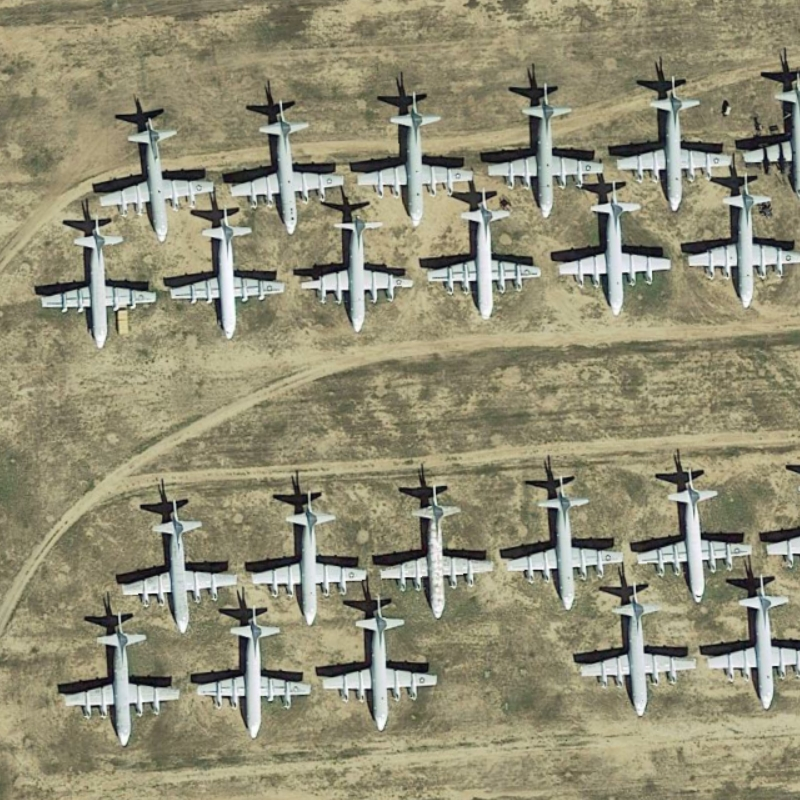A9: (249, 482, 374, 628), (376, 477, 501, 622), (481, 78, 609, 219), (571, 583, 699, 723), (502, 467, 626, 611), (320, 594, 445, 736), (632, 464, 758, 604), (120, 495, 244, 634), (192, 600, 317, 737), (355, 87, 475, 228), (37, 211, 154, 355), (166, 214, 293, 346), (65, 611, 185, 750), (617, 72, 735, 213), (297, 205, 417, 343), (559, 181, 676, 322), (683, 171, 800, 310), (227, 100, 347, 233), (425, 188, 543, 322), (93, 118, 216, 245), (706, 573, 800, 712)
